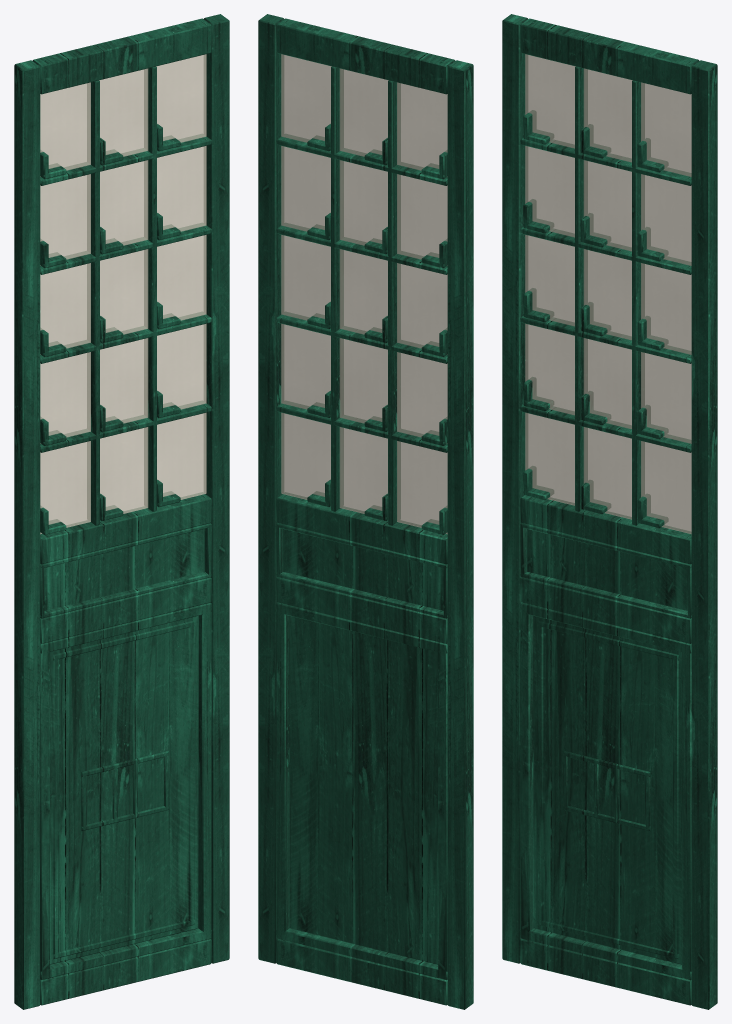
The model's file is men-geshan-bubujin.glb.
3 renders of one model, left to right at view 1: azimuth 30°, elevation 25°; view 2: azimuth 150°, elevation 25°; view 3: azimuth 330°, elevation 25°, orthographic.
Visible parts, largest first — view 1: geshan, geshan_paper; view 2: geshan, geshan_paper; view 3: geshan, geshan_paper.
Boxes of the visible parts, left/top/right/bottom form: geshan: left=14, top=14, right=229, bottom=1009; geshan_paper: left=40, top=54, right=206, bottom=534; geshan: left=258, top=14, right=473, bottom=1009; geshan_paper: left=281, top=54, right=447, bottom=534; geshan: left=502, top=14, right=717, bottom=1009; geshan_paper: left=525, top=54, right=691, bottom=534.
Size of the model in its own units: 0.6 by 2.6 by 0.046.
2 materials, 2 textured.
